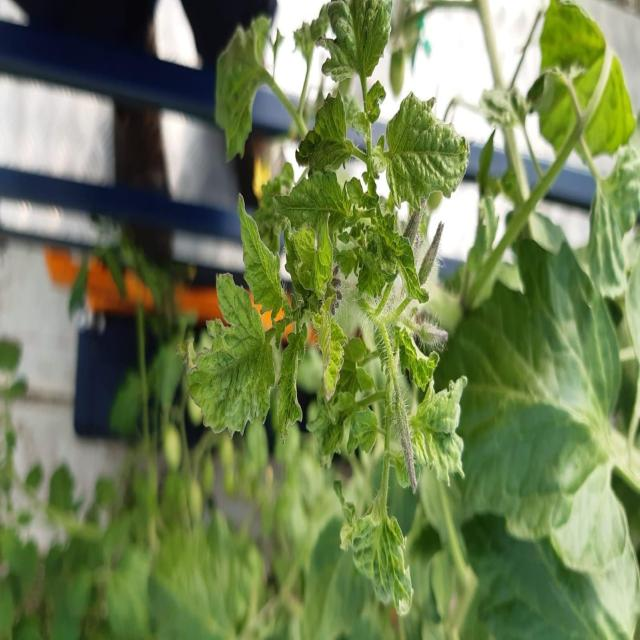T_L_R: (188, 273, 276, 433), (386, 91, 470, 208), (341, 505, 414, 616), (322, 1, 392, 109), (239, 194, 288, 320), (411, 377, 467, 486), (297, 89, 362, 174), (276, 172, 352, 234), (376, 215, 425, 304), (279, 326, 309, 440), (314, 307, 347, 402), (292, 223, 334, 296)
